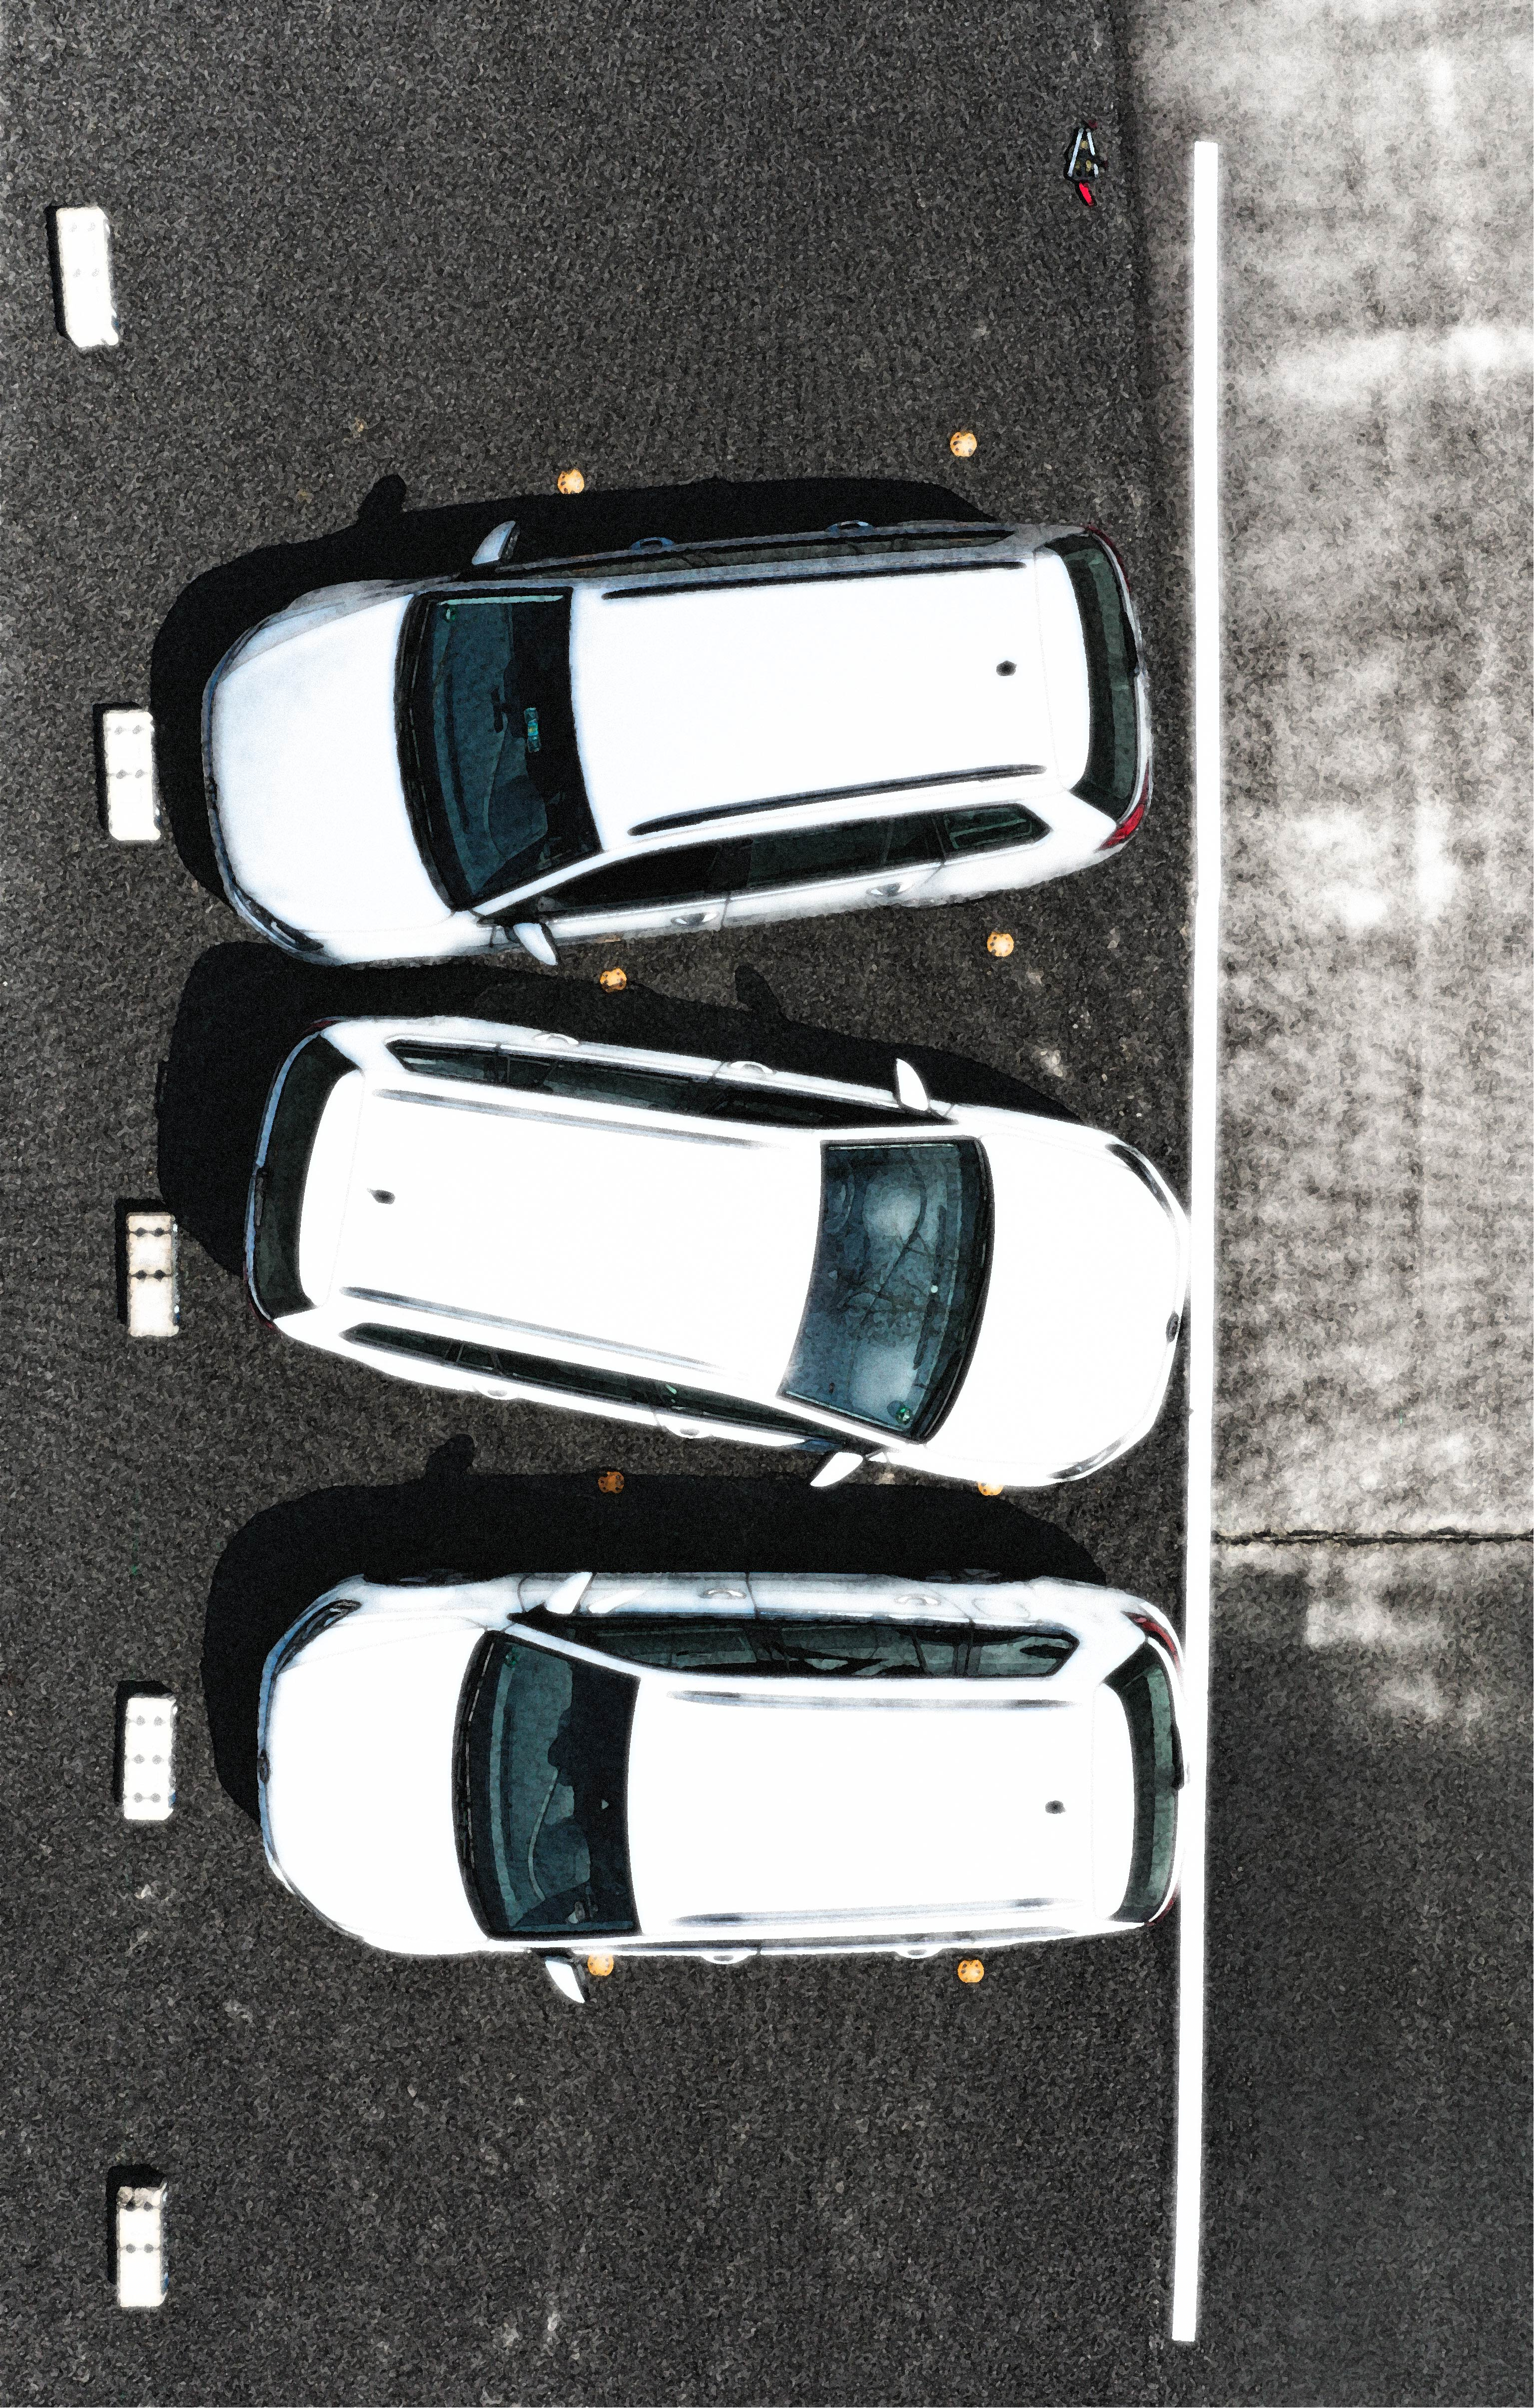Car: (209, 995, 1174, 1522), (198, 502, 1129, 983), (237, 1544, 1181, 1955)
LaneMark: (1174, 130, 1232, 2348)
